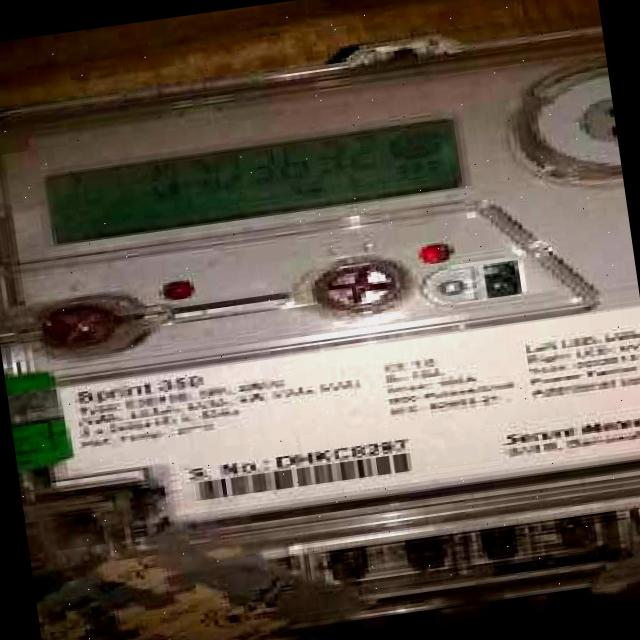LCD: (36, 106, 477, 255)
